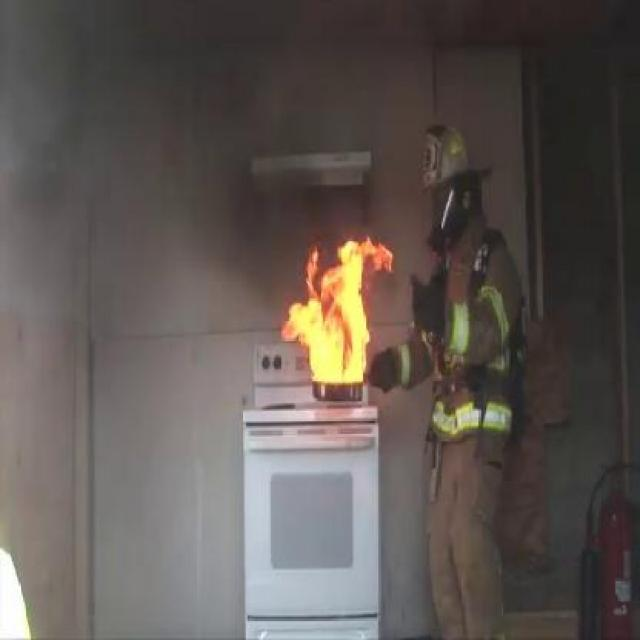fire: (288, 234, 390, 390)
